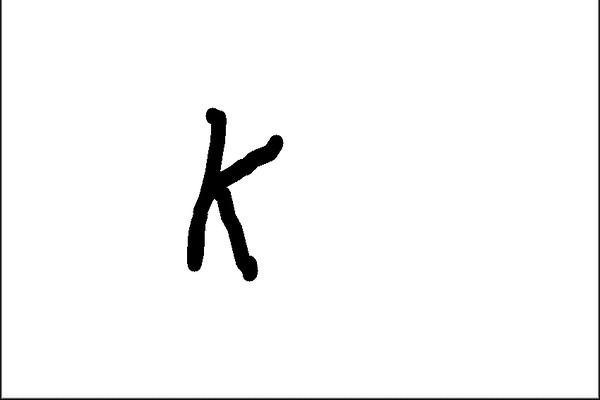K: (178, 101, 287, 285)
